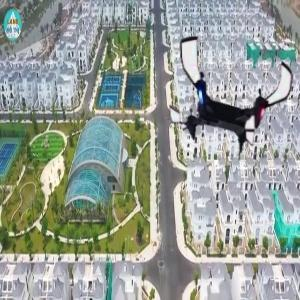drone: (167, 30, 298, 161)
